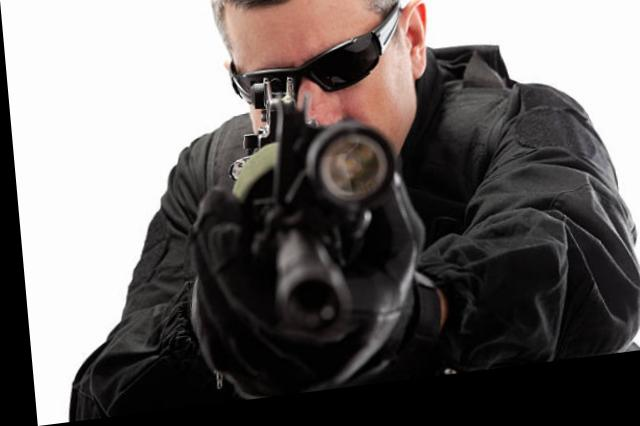other: (138, 0, 596, 410)
